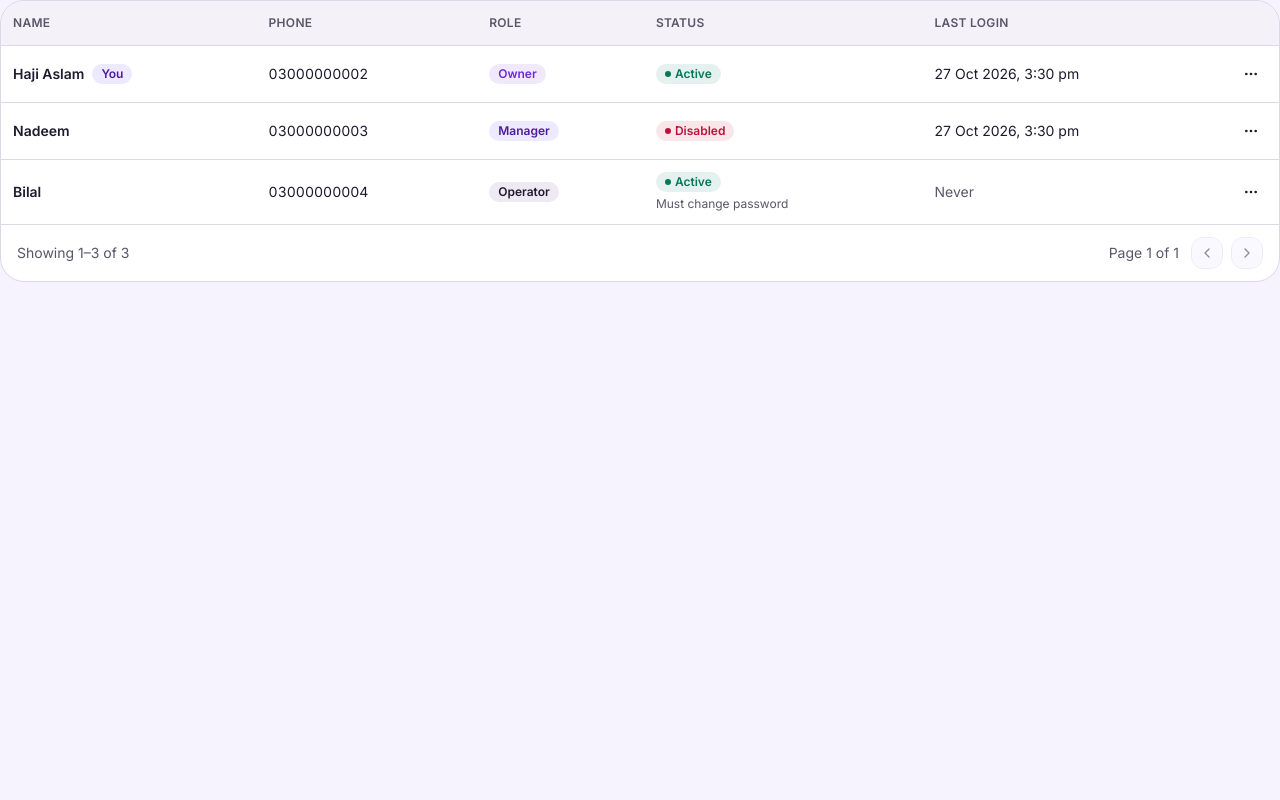
Test: StaffTable › activates a disabled person
Press Enter in the button named "Actions for Nadeem", box x1=1235 y1=114 x2=1267 y2=146
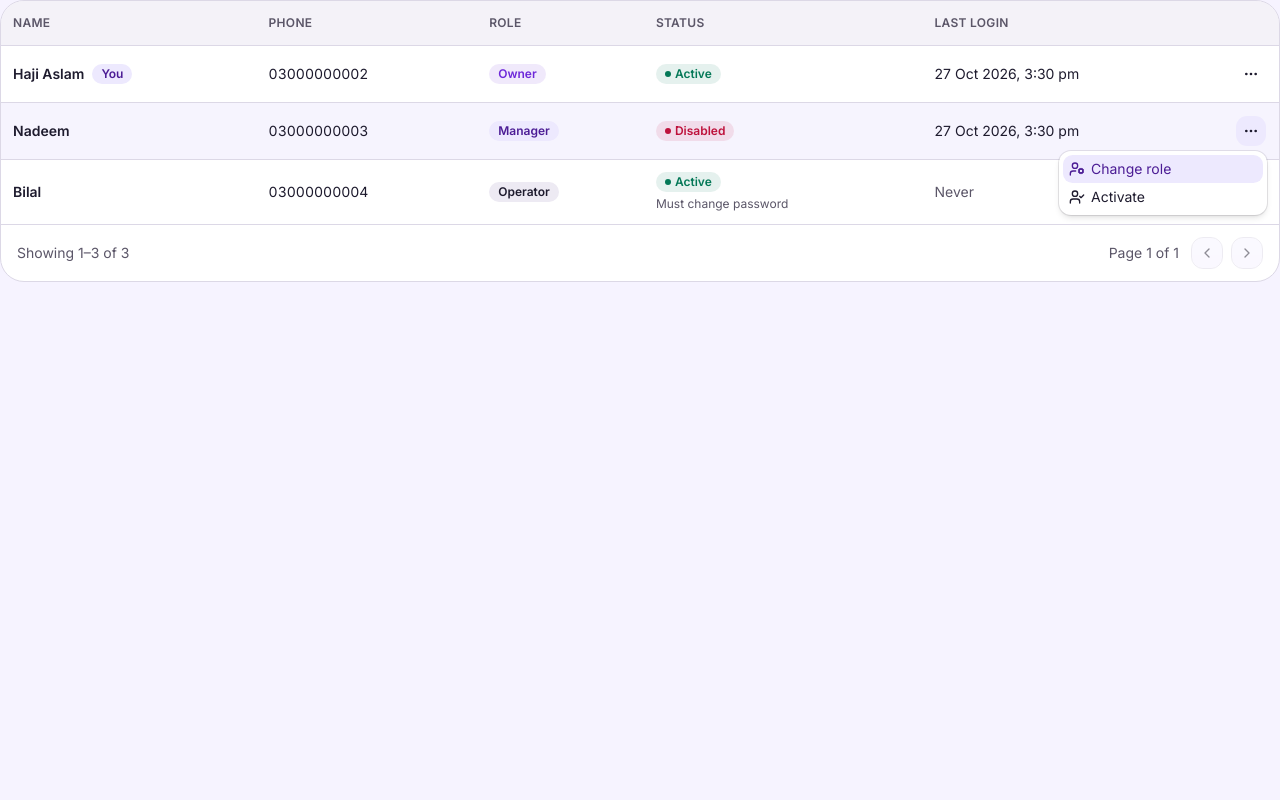
Click the menu item "Activate" at (1107, 196), box x1=1069 y1=188 x2=1145 y2=205
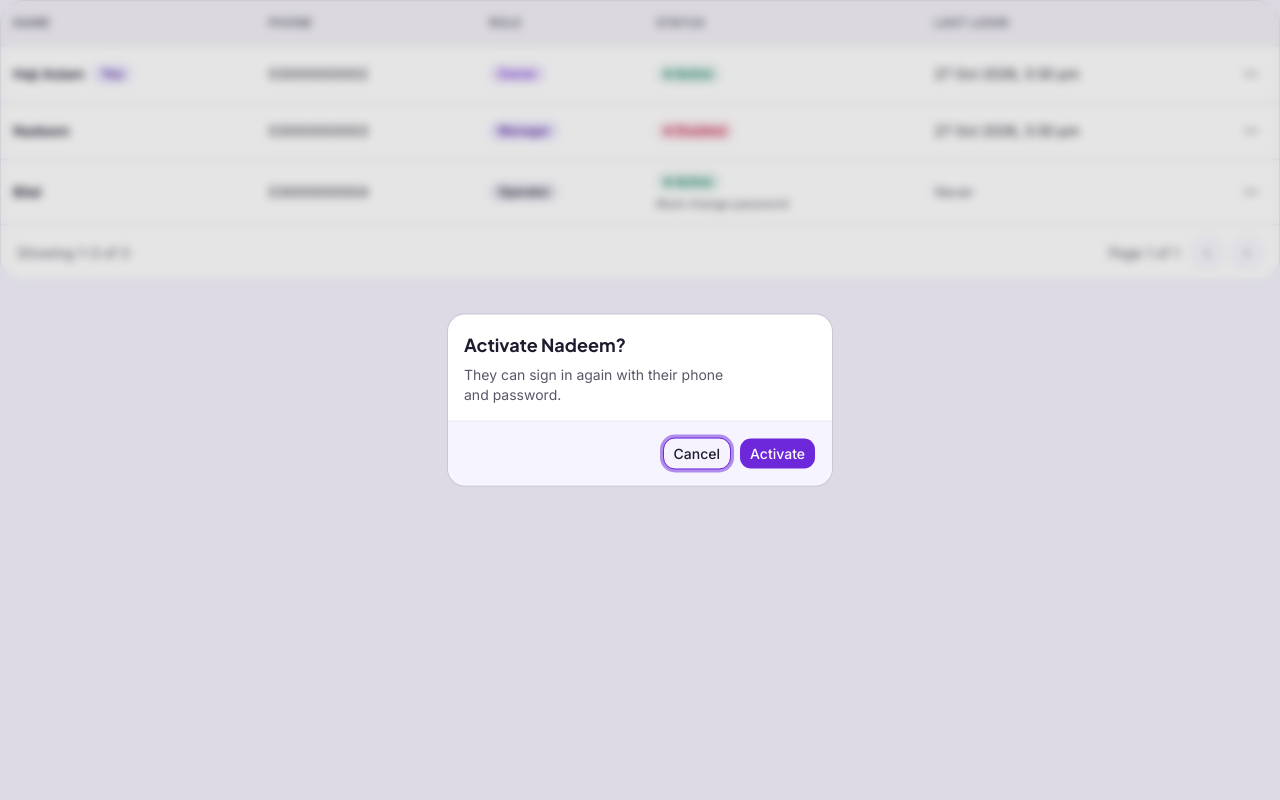
Click the button "Activate" at (778, 454), box x1=739 y1=438 x2=816 y2=470
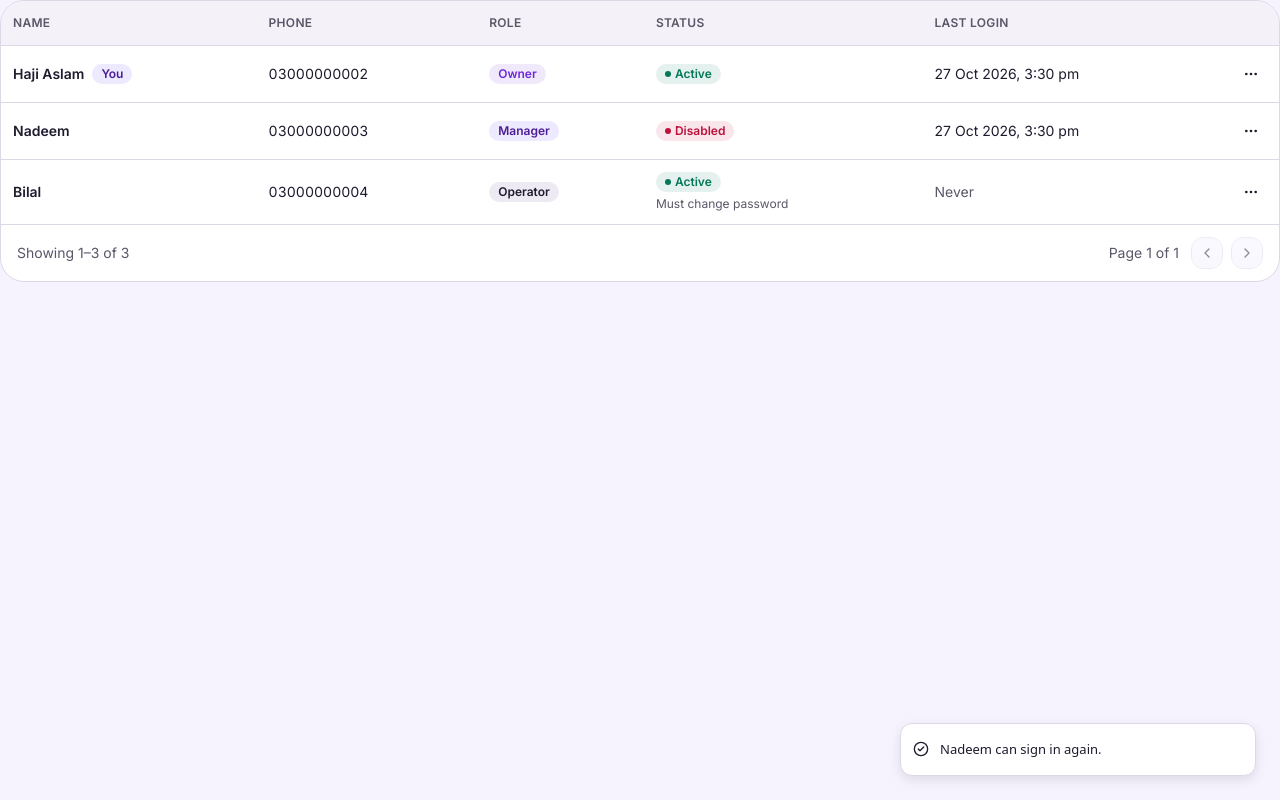
Expected: the text "Nadeem can sign in again." is shown, x1=940 y1=740 x2=1102 y2=759
